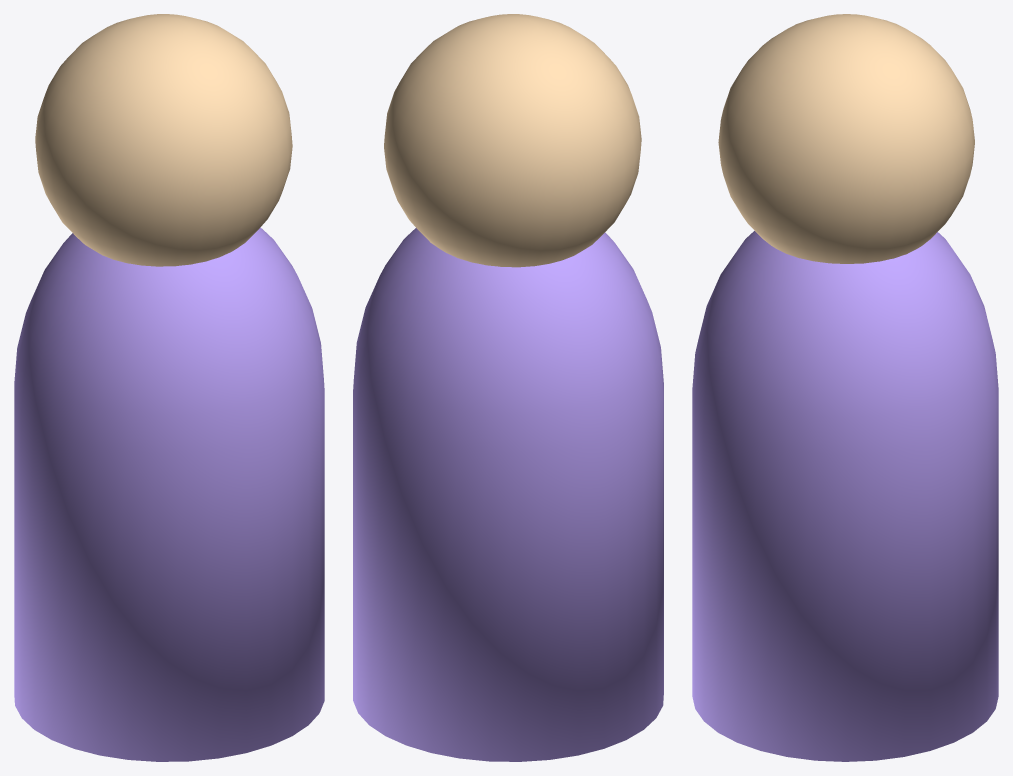
File: Doll1.fbx
The picture shows the model from 3 angles, left to right: view 1: azimuth 30°, elevation 25°; view 2: azimuth 150°, elevation 25°; view 3: azimuth 270°, elevation 25°; orthographic projection.
Parts seen in each view (by area): view 1: Doll1; view 2: Doll1; view 3: Doll1.
Part boxes in pixels (x1,y1,x2,y2): Doll1: (14,14,324,761); Doll1: (353,14,663,761); Doll1: (692,14,998,761).
Bounding box in the file's own units: 150 × 355 × 148.
1 material, 1 textured.
